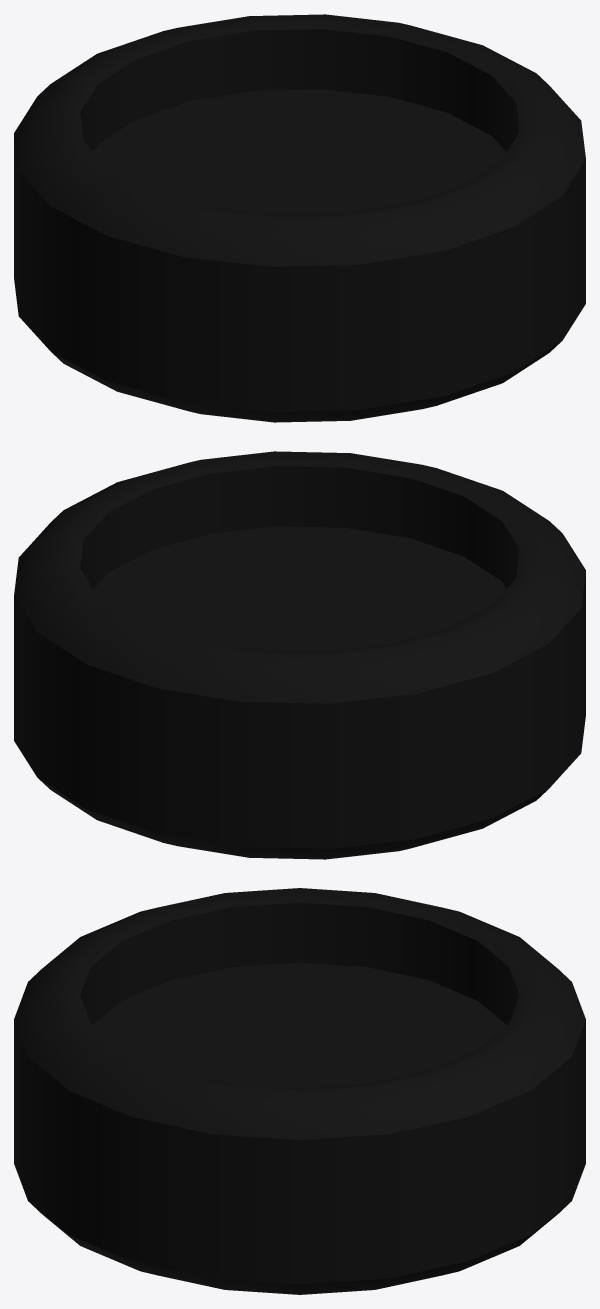
Rendered from truck_tire.obj.
The picture shows the model from 3 angles, top to bottom: view 1: azimuth 30°, elevation 25°; view 2: azimuth 150°, elevation 25°; view 3: azimuth 270°, elevation 25°; orthographic projection.
Visible parts, largest first — view 1: Truck_Tire_0409; view 2: Truck_Tire_0409; view 3: Truck_Tire_0409.
Boxes of the visible parts, left/top/right/bottom form: Truck_Tire_0409: left=14, top=14, right=585, bottom=422; Truck_Tire_0409: left=14, top=451, right=585, bottom=859; Truck_Tire_0409: left=14, top=888, right=585, bottom=1294.
Size of the model in its own units: 1.33 by 0.5186 by 1.33.
Materials: 1 (1 with a texture image).
